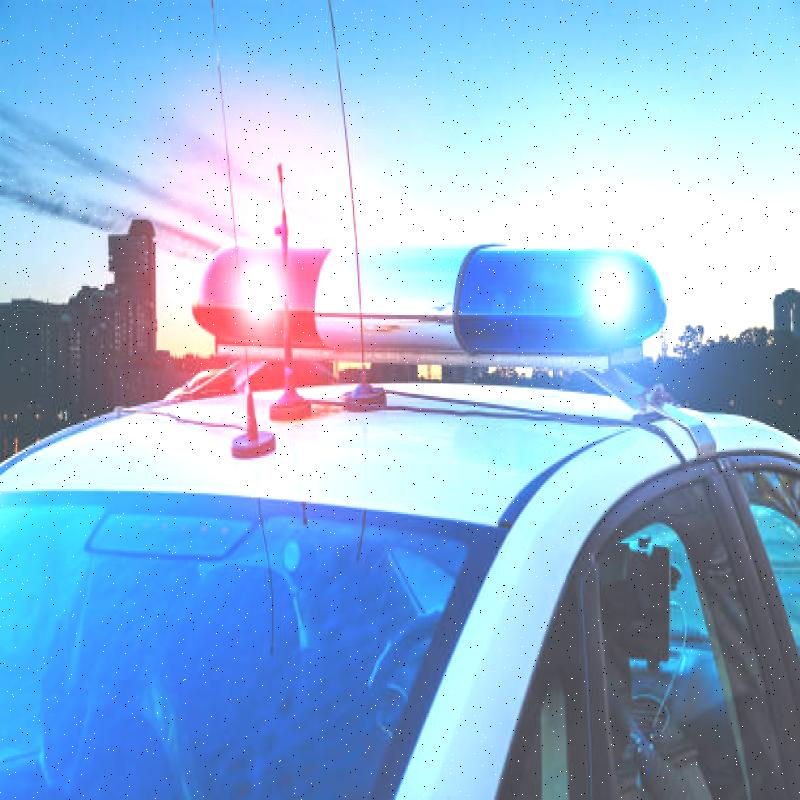AmbulanceSiren: (181, 196, 686, 409)
